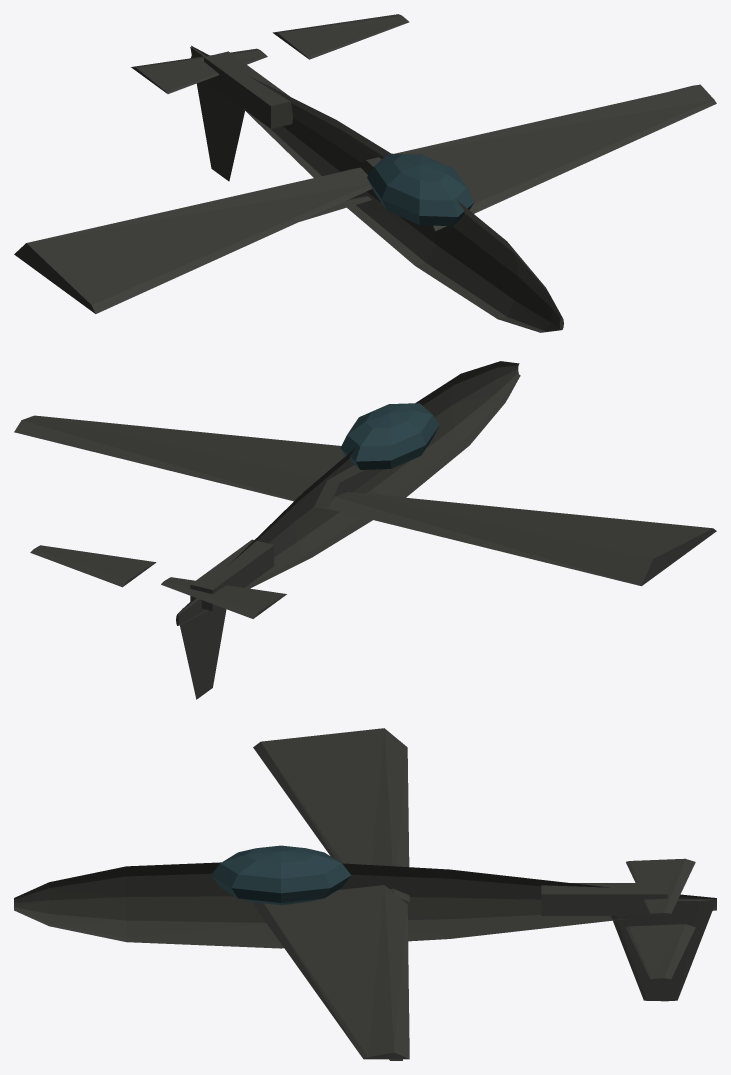
File: bf109_Destroyed.glb
3 views of the same model, one above another, from view 1: azimuth 30°, elevation 25°; view 2: azimuth 150°, elevation 25°; view 3: azimuth 270°, elevation 25° (orthographic). The views are drawn at different scales.
Visible parts, largest first — view 1: Wing_L, Fuselage, Wing_R, Cockpit, TailBoom, Rudder, Elevator_R, Elevator_L; view 2: Wing_L, Wing_R, Fuselage, Cockpit, Rudder, TailBoom, Elevator_R, Elevator_L; view 3: Fuselage, Wing_R, Wing_L, Cockpit, Rudder, TailBoom, Elevator_R, Elevator_L.
Boxes of the visible parts, x1,y1,x2,y2 form: Wing_L: [14, 167, 372, 313]; Fuselage: [190, 45, 563, 332]; Wing_R: [358, 84, 716, 231]; Cockpit: [367, 153, 474, 226]; TailBoom: [204, 51, 292, 128]; Rudder: [190, 47, 244, 181]; Elevator_R: [272, 14, 409, 59]; Elevator_L: [131, 48, 267, 93]; Wing_L: [327, 492, 716, 586]; Wing_R: [14, 415, 382, 509]; Fuselage: [176, 361, 520, 625]; Cockpit: [340, 403, 439, 469]; Rudder: [178, 598, 226, 699]; TailBoom: [190, 539, 274, 611]; Elevator_R: [30, 545, 156, 587]; Elevator_L: [161, 577, 286, 618]; Fuselage: [14, 862, 716, 948]; Wing_R: [253, 885, 409, 1059]; Wing_L: [253, 728, 409, 902]; Cockpit: [211, 845, 351, 905]; Rudder: [611, 899, 716, 1001]; TailBoom: [541, 883, 667, 915]; Elevator_R: [626, 924, 695, 979]; Elevator_L: [626, 858, 695, 913].
Bounding box in the file's own units: 9.5 × 2.11 × 9.
